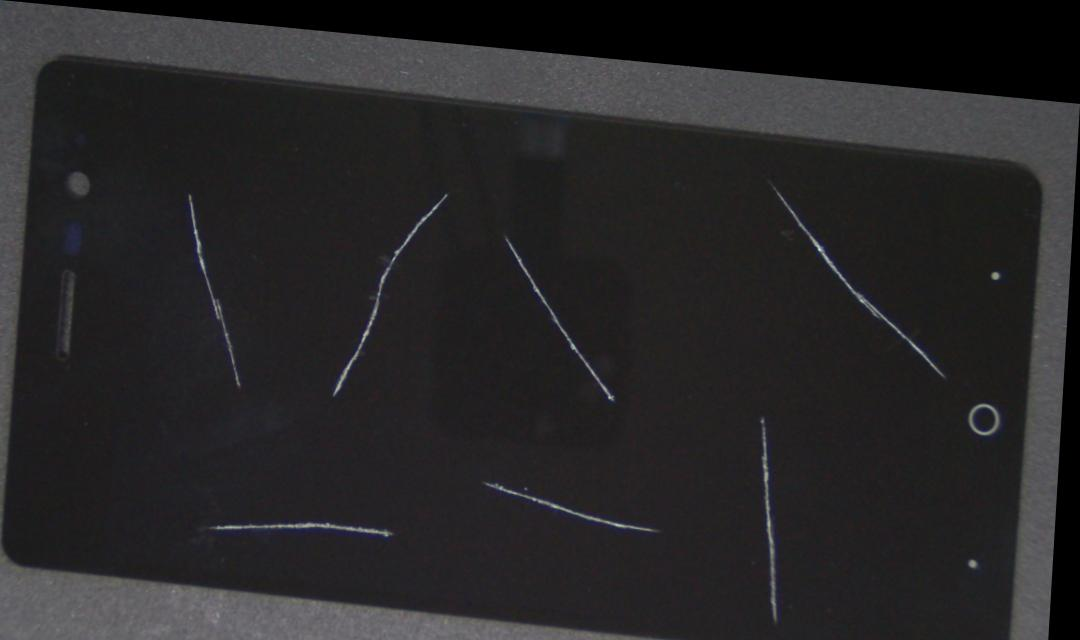Scratches: (754, 165, 959, 395), (316, 162, 457, 407), (487, 203, 631, 416), (164, 180, 249, 391), (743, 410, 812, 638), (471, 473, 671, 549), (196, 513, 417, 561)
